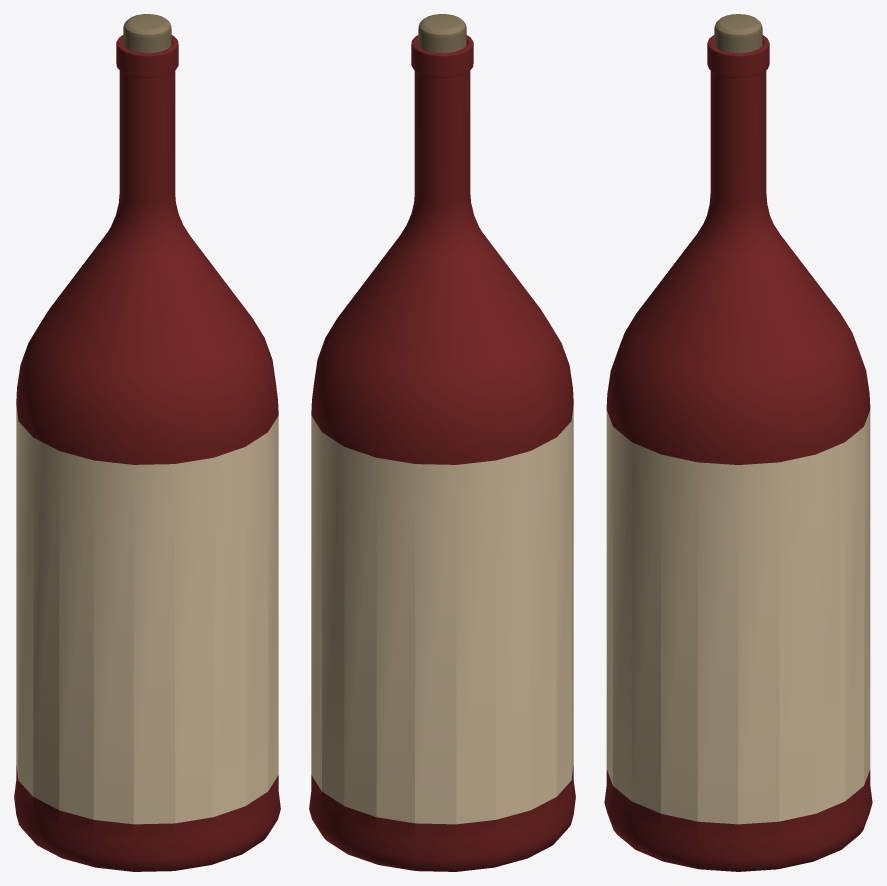
Rendered from red_glass_bottle.fbx.
3 renders of one model, left to right at view 1: azimuth 30°, elevation 25°; view 2: azimuth 150°, elevation 25°; view 3: azimuth 270°, elevation 25°, orthographic.
Visible parts, largest first — view 1: bottle; view 2: bottle; view 3: bottle.
Part boxes in pixels (<box>): bottle: <box>14,14,280,871</box>; bottle: <box>309,14,575,871</box>; bottle: <box>604,14,872,871</box>.
Bounding box in the file's own units: 2.03 × 6.69 × 2.03.
